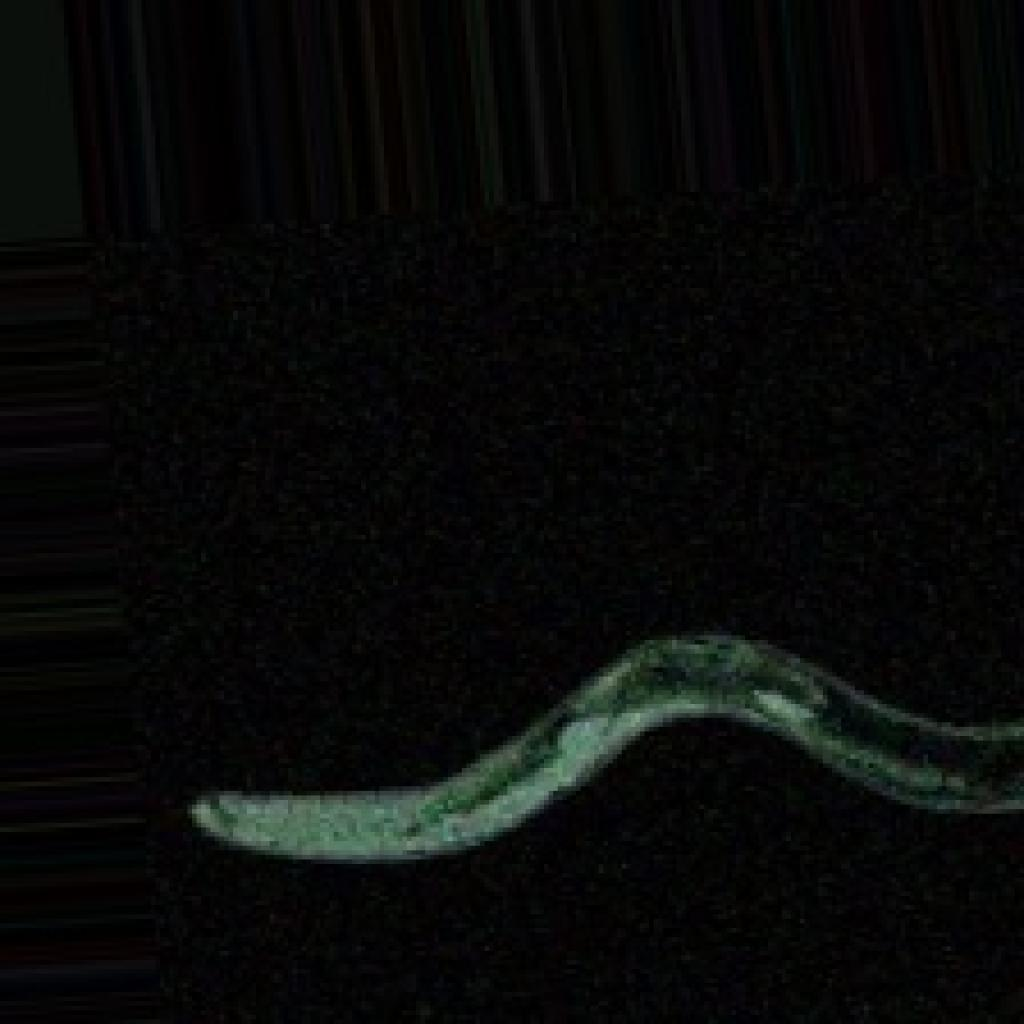Nematode: (92, 151, 1020, 1019)
